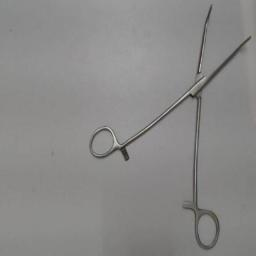Lahey Forceps: (86, 2, 254, 252)
